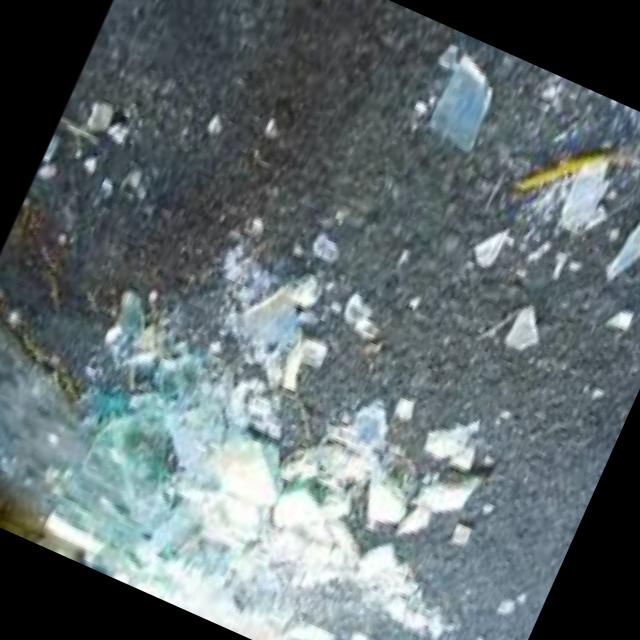PecahanKaca: (505, 107, 640, 247), (405, 39, 511, 159)
